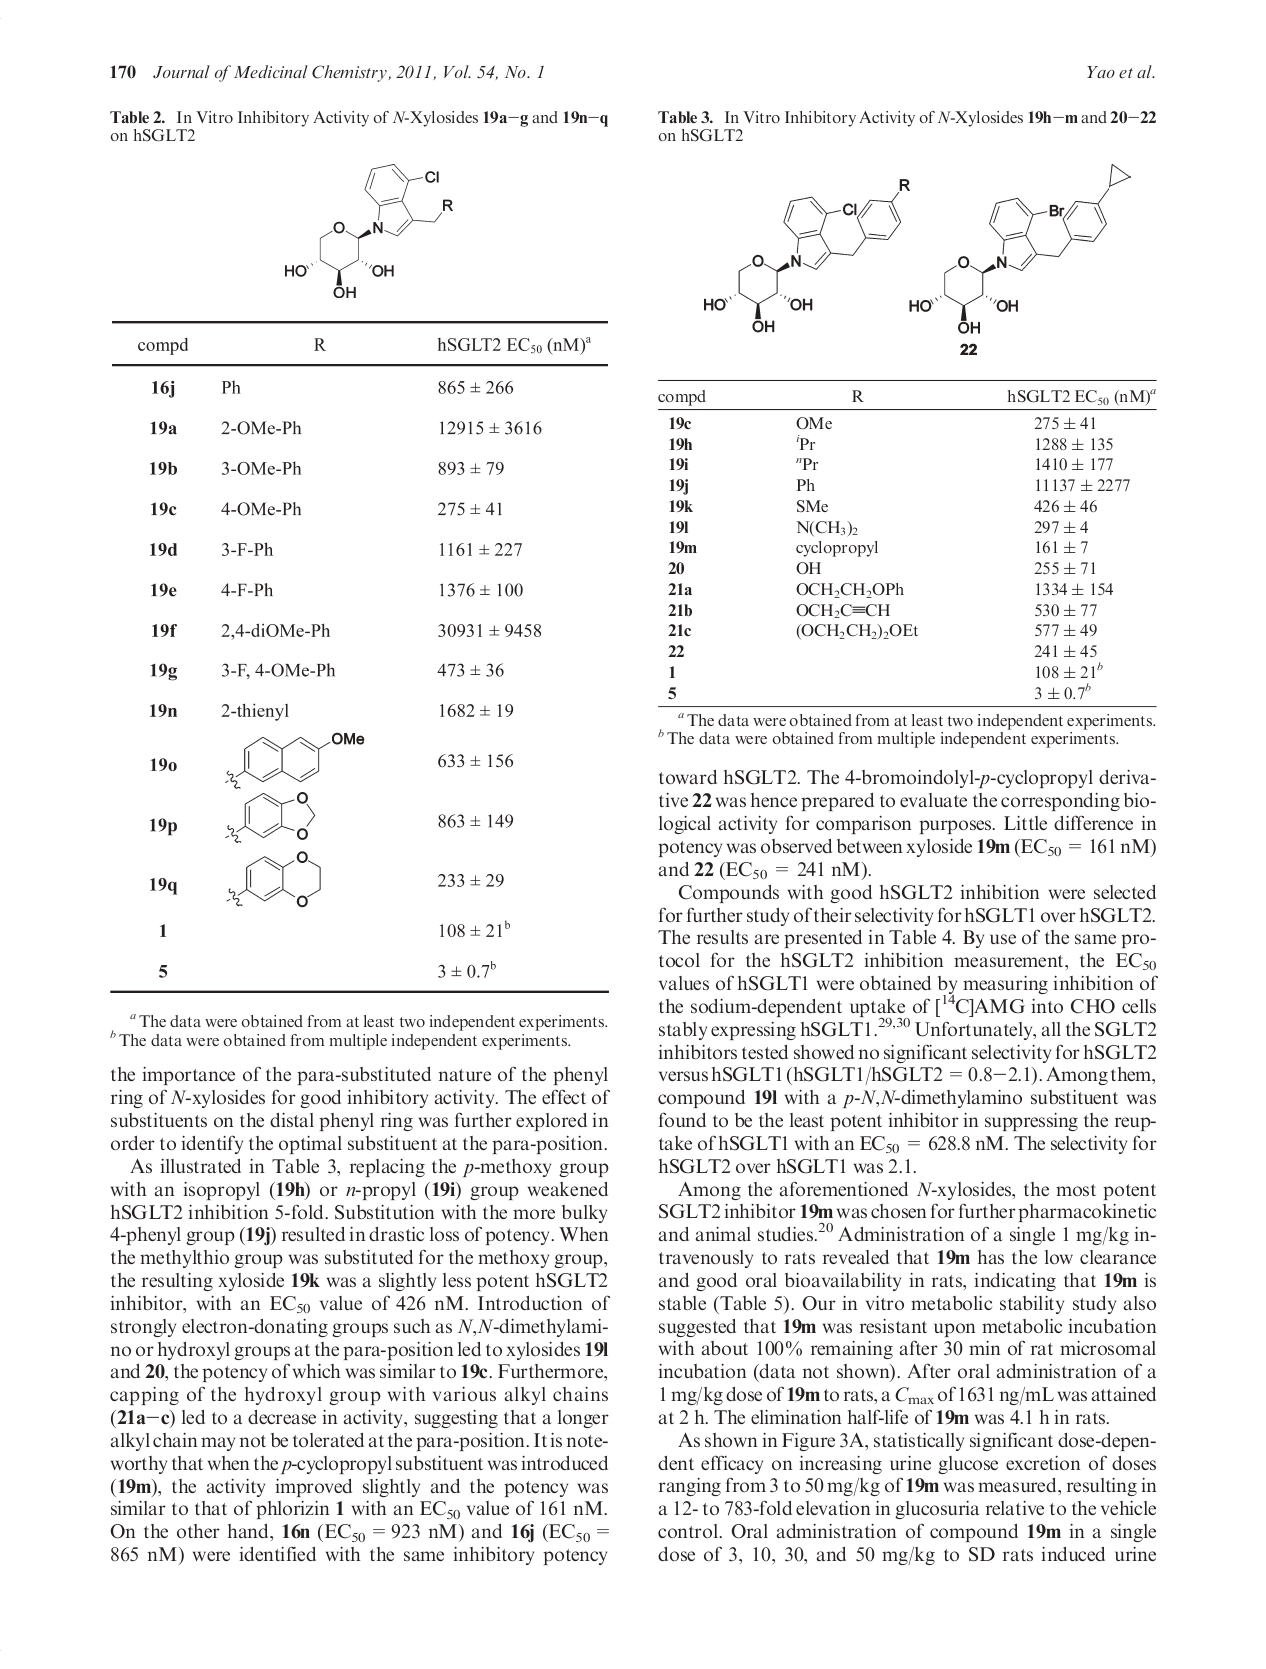exist_molecular: (906, 162, 1134, 335), (701, 177, 910, 336), (278, 162, 455, 305), (221, 729, 364, 790), (223, 848, 324, 914), (223, 790, 318, 844)
